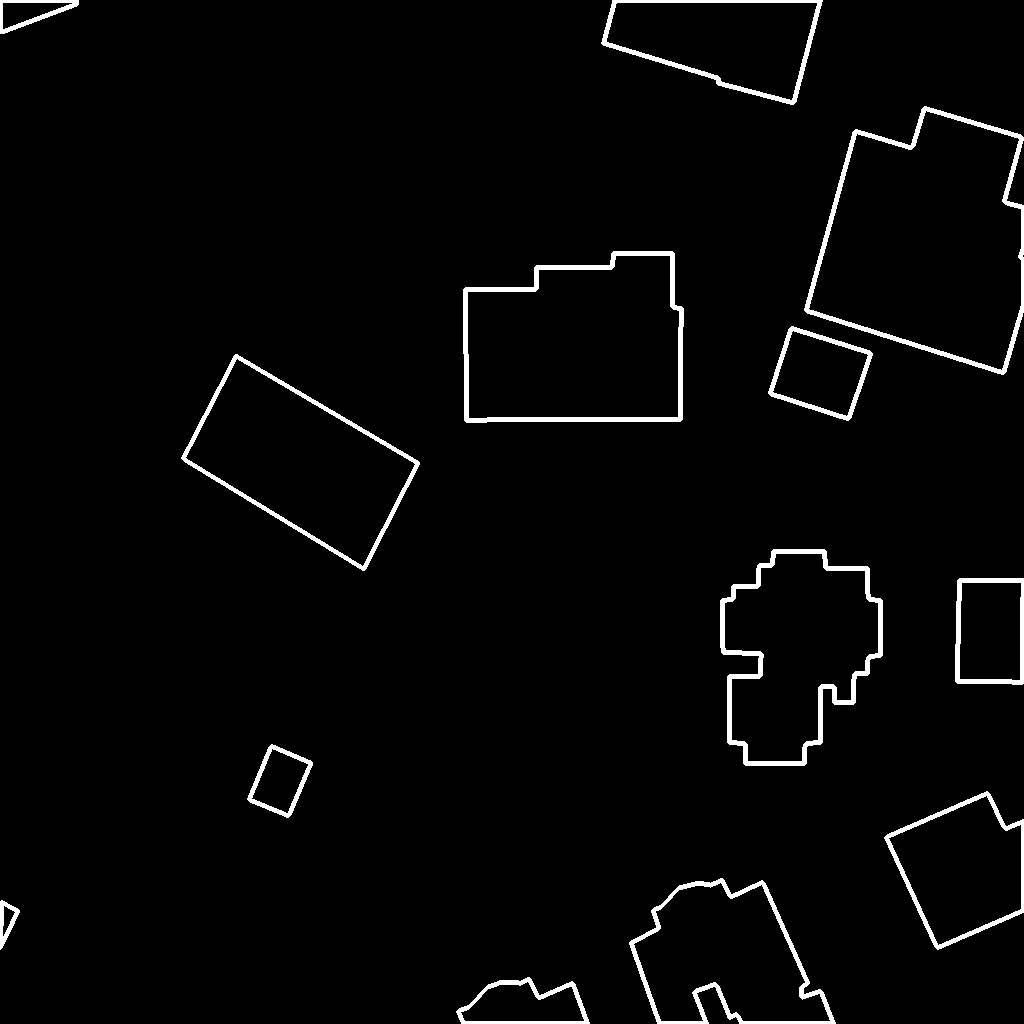building: (806, 108, 1024, 374), (183, 356, 419, 570), (465, 253, 682, 421), (722, 551, 881, 764), (631, 880, 835, 1024), (603, 0, 822, 104), (886, 793, 1024, 949), (770, 328, 872, 420), (957, 580, 1024, 683), (458, 979, 589, 1024), (249, 746, 312, 817), (0, 0, 78, 33), (0, 902, 19, 950)
